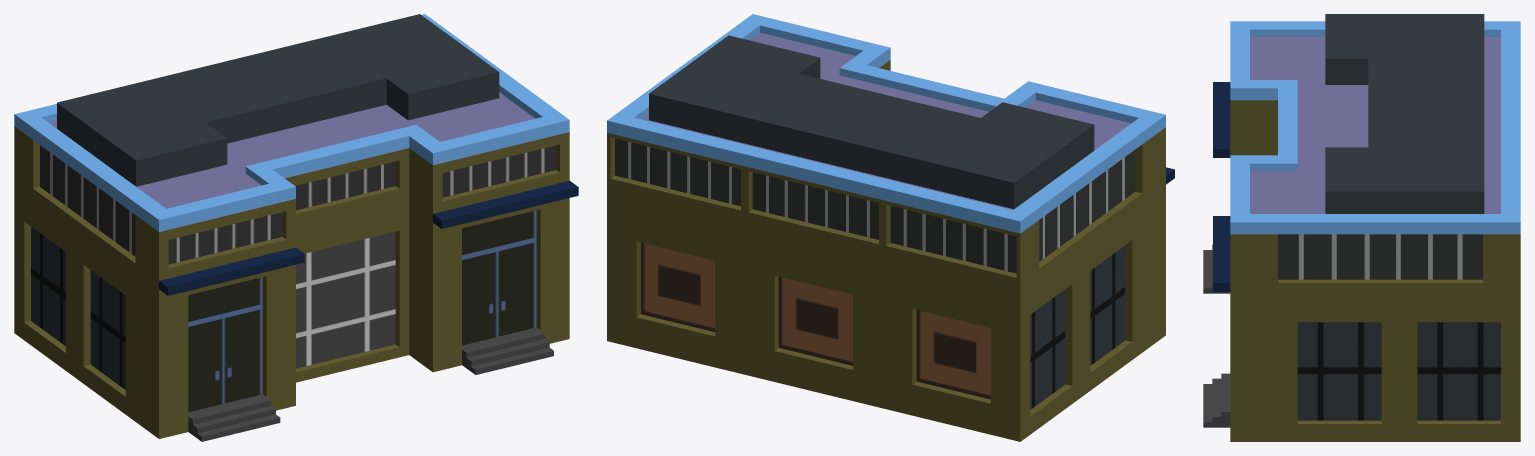
File: building12c.FBX
The picture shows the model from 3 angles, left to right: view 1: azimuth 30°, elevation 25°; view 2: azimuth 150°, elevation 25°; view 3: azimuth 270°, elevation 25°; orthographic projection.
Visible parts, largest first — view 1: building12c; view 2: building12c; view 3: building12c.
Boxes of the visible parts, x1,y1,x2,y2 form: building12c: (14, 14, 578, 441); building12c: (607, 14, 1174, 441); building12c: (1203, 14, 1520, 441).
Bounding box in the file's own units: 19.86 × 11.01 × 13.27.
